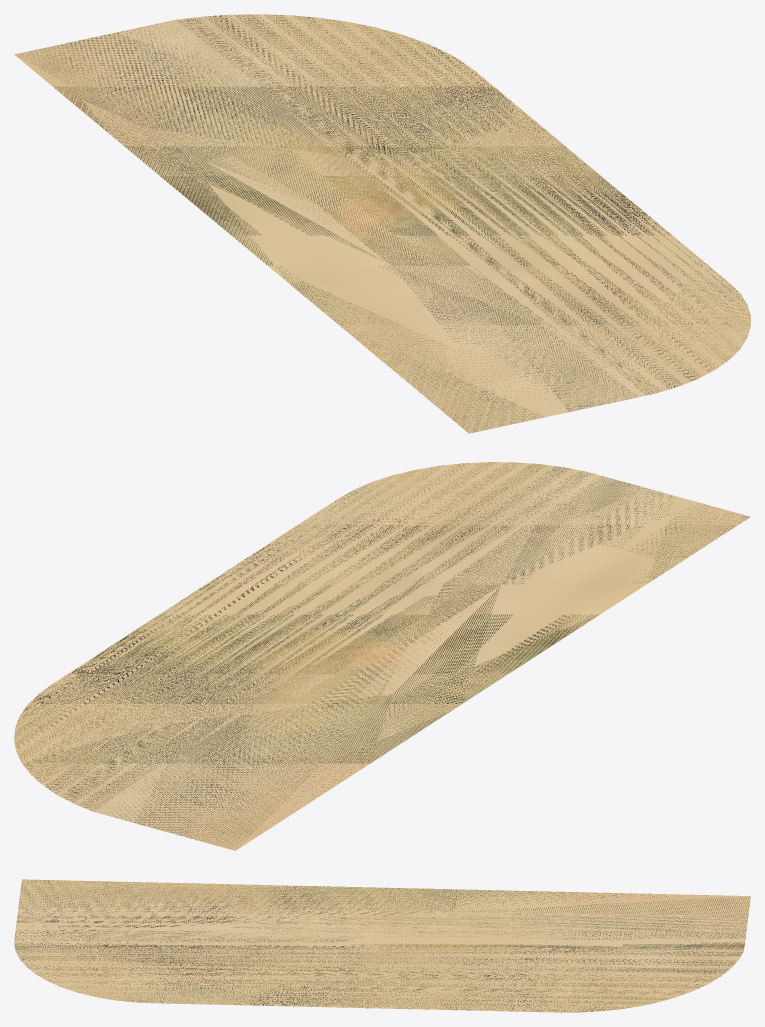
Rendered from original-84.obj.
3 renders of one model, top to bottom at view 1: azimuth 30°, elevation 25°; view 2: azimuth 150°, elevation 25°; view 3: azimuth 270°, elevation 25°, orthographic. The views are drawn at different scales.
Visible parts, largest first — view 1: mesh39/mesh39-geometry/material_0/component_2#mesh39-geometry; view 2: mesh39/mesh39-geometry/material_0/component_2#mesh39-geometry; view 3: mesh39/mesh39-geometry/material_0/component_2#mesh39-geometry.
Boxes of the visible parts, x1,y1,x2,y2 form: mesh39/mesh39-geometry/material_0/component_2#mesh39-geometry: (14, 14, 750, 433); mesh39/mesh39-geometry/material_0/component_2#mesh39-geometry: (14, 462, 750, 850); mesh39/mesh39-geometry/material_0/component_2#mesh39-geometry: (14, 879, 750, 1012).
Size of the model in its own units: 0.0891 by 0 by 0.2083.
